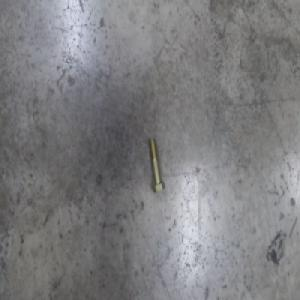Bolt: (147, 136, 164, 194)
